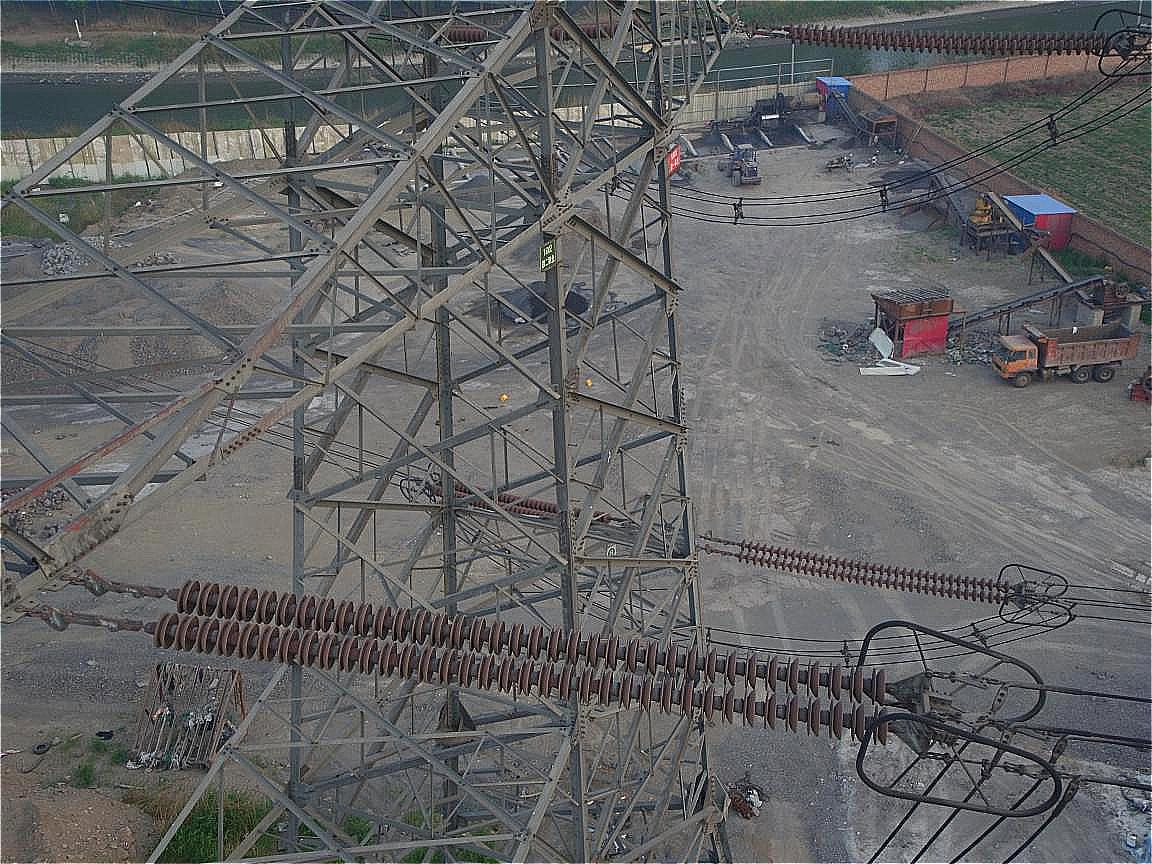insultor1: (730, 523, 1023, 614)
insultor2: (139, 566, 915, 762)
